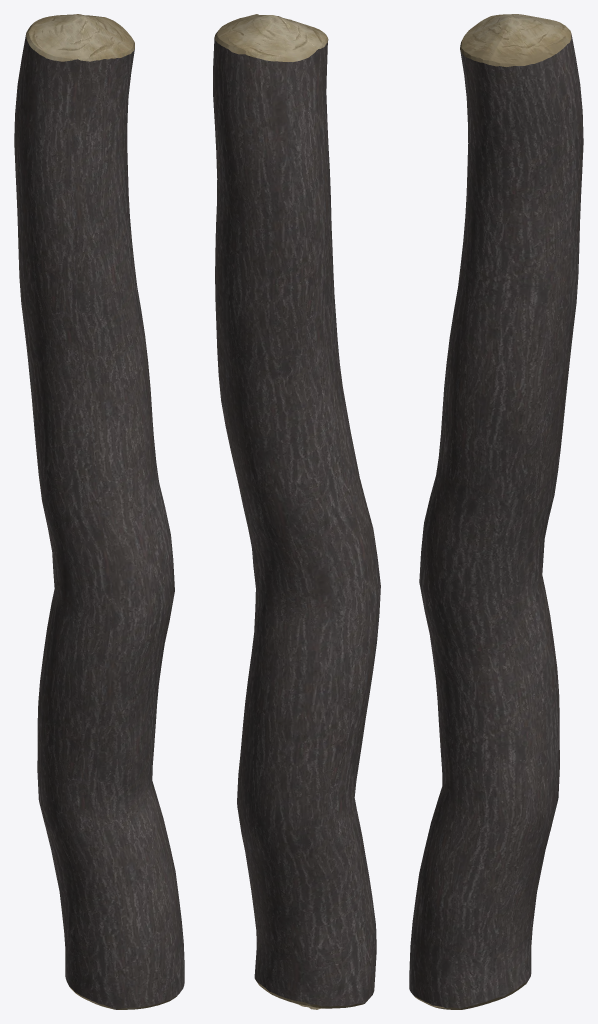
The picture shows the model from 3 angles, left to right: view 1: azimuth 90°, elevation 25°; view 2: azimuth 150°, elevation 25°; view 3: azimuth 270°, elevation 25°; orthographic projection. The views are drawn at different scales.
Parts seen in each view (by area): view 1: SM_BM_Oak_Tree_02_tree_quarters_top_LOD0; view 2: SM_BM_Oak_Tree_02_tree_quarters_top_LOD0; view 3: SM_BM_Oak_Tree_02_tree_quarters_top_LOD0.
Part boxes in pixels (x1,y1,x2,y2): SM_BM_Oak_Tree_02_tree_quarters_top_LOD0: (14, 14, 184, 1009); SM_BM_Oak_Tree_02_tree_quarters_top_LOD0: (213, 14, 380, 1009); SM_BM_Oak_Tree_02_tree_quarters_top_LOD0: (409, 14, 583, 1009).
Size of the model in its own units: 1.15 by 8.18 by 1.3.
1 material, 1 textured.
